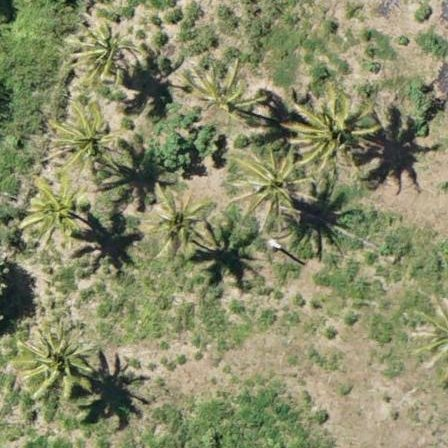palm_tree: (46, 99, 120, 178), (68, 9, 141, 87), (19, 325, 87, 403), (298, 95, 365, 166), (240, 151, 305, 221), (191, 62, 260, 127), (22, 180, 82, 244), (144, 190, 204, 253)
